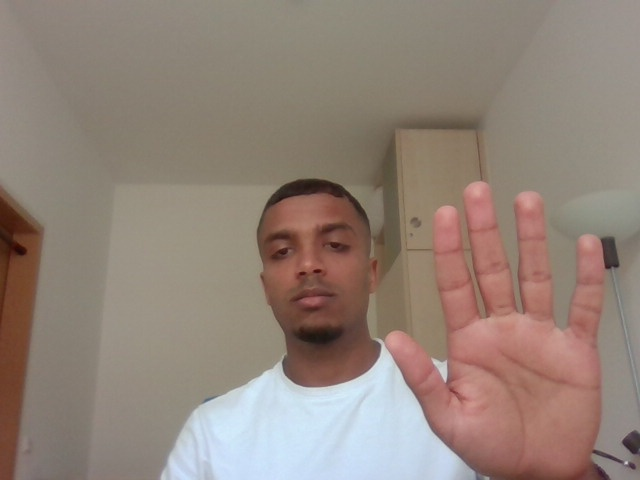never: (377, 167, 617, 480)
